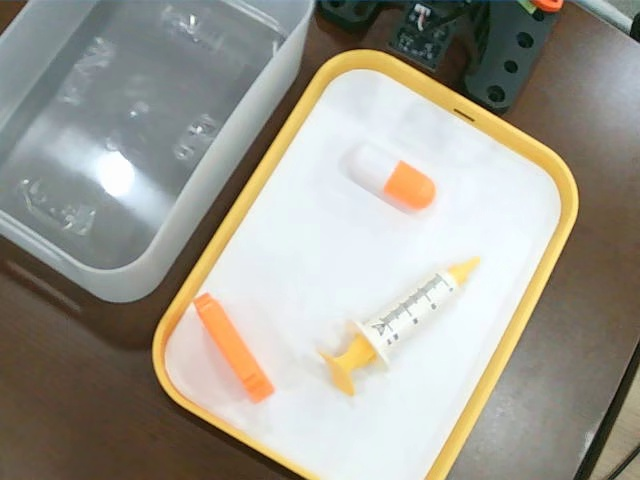pill: (352, 138, 438, 212)
syringe: (321, 253, 482, 392)
